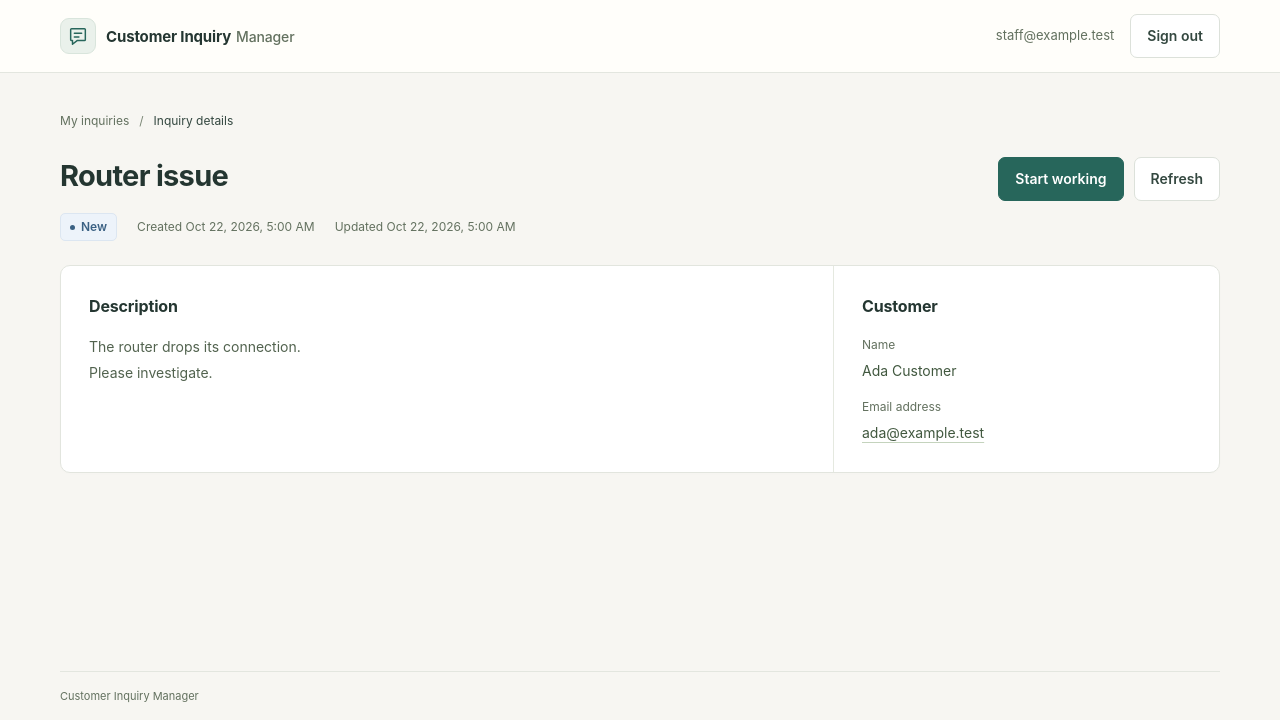
Test: a failed conflict refetch blocks further status changes until Refresh succeeds
Click the button "Start working". click: {"x": 1061, "y": 179}
box: 998,157 -> 1124,201
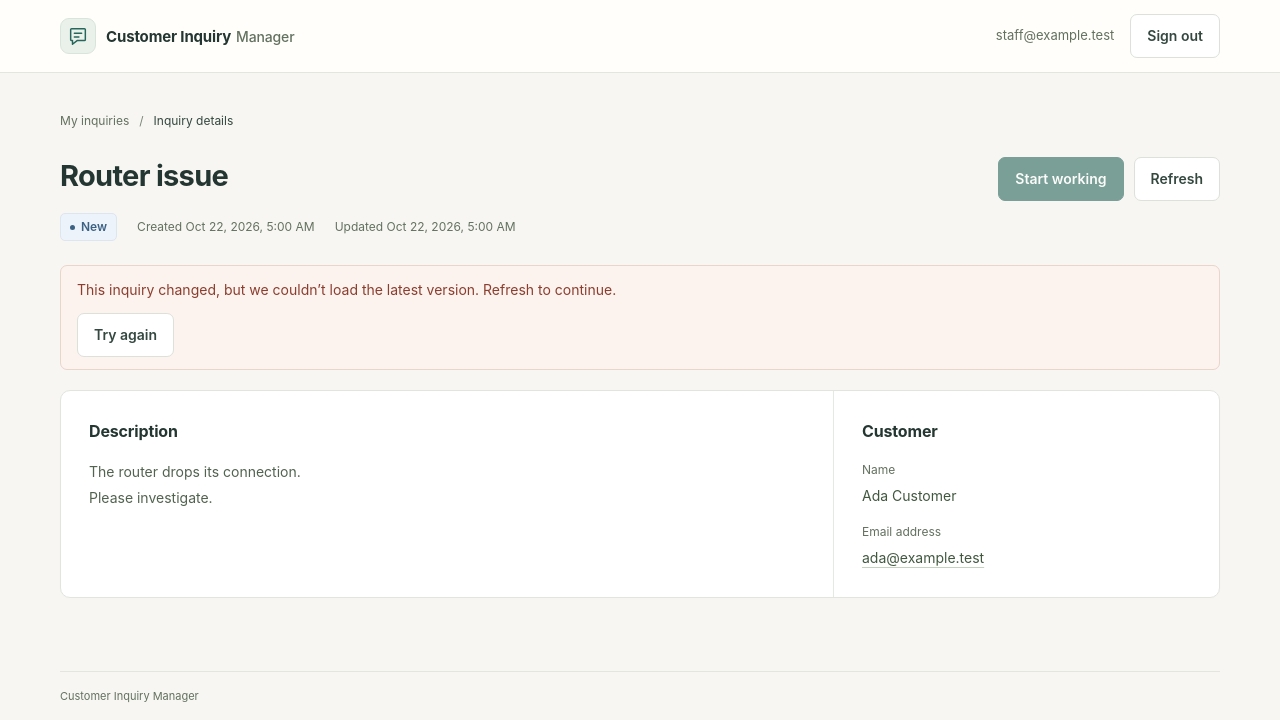
Result: the message shows "Refresh to continue" at 77,281 -> 616,298
Result: the button "Start working" is disabled at 998,157 -> 1124,201
Click the button "Refresh". click: {"x": 1177, "y": 179}
box: 1134,157 -> 1220,201
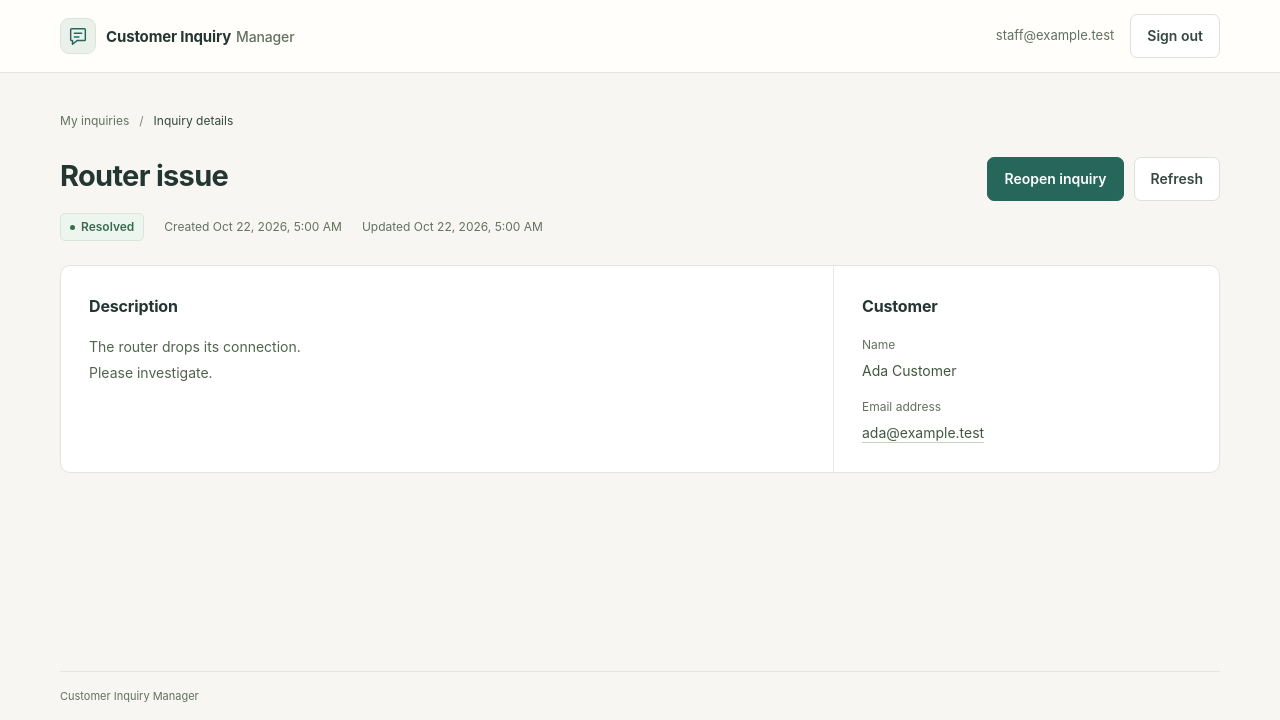
Result: the button "Reopen inquiry" is enabled at 987,157 -> 1124,201
